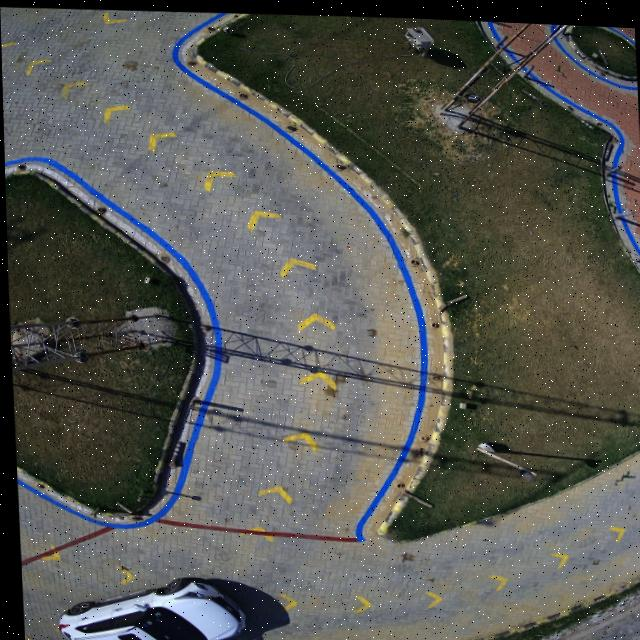car: (55, 575, 243, 640)
